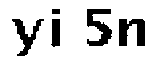5: (81, 2, 116, 54)
i: (48, 8, 73, 52)
n: (117, 16, 148, 54)
y: (10, 12, 48, 59)
